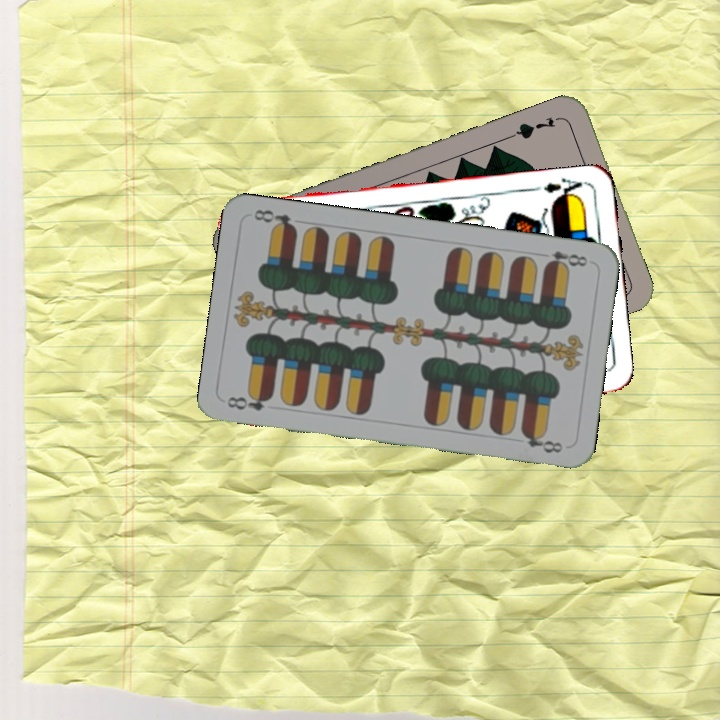E8: (534, 247, 590, 272), (223, 389, 275, 414)
EA: (530, 174, 589, 203)
G7: (508, 112, 565, 142)
